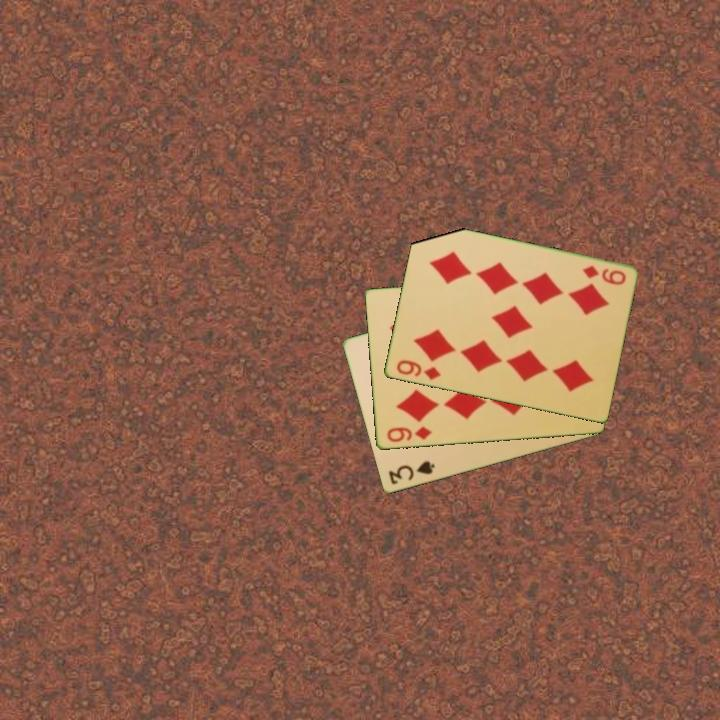3s: (385, 458, 438, 488)
9d: (393, 357, 443, 383), (578, 262, 628, 288), (383, 423, 434, 445)
